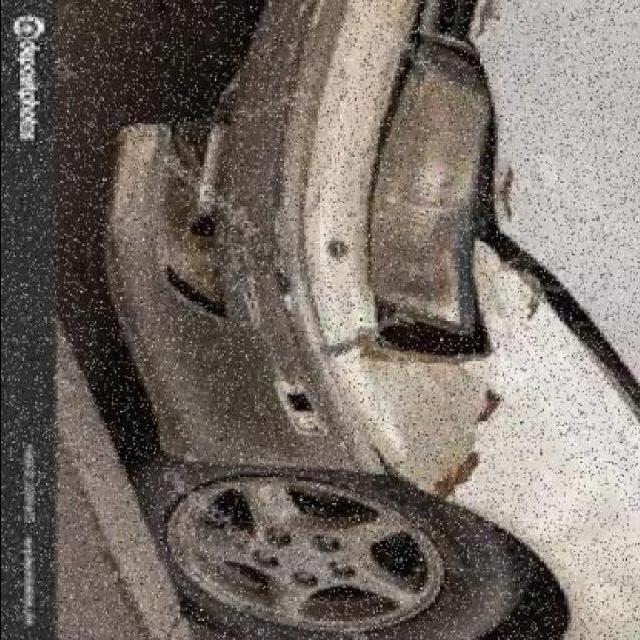bonnet-dent: (432, 0, 638, 263)
fender-dent: (367, 251, 611, 638)
front-bumper-dent: (115, 0, 435, 470)
